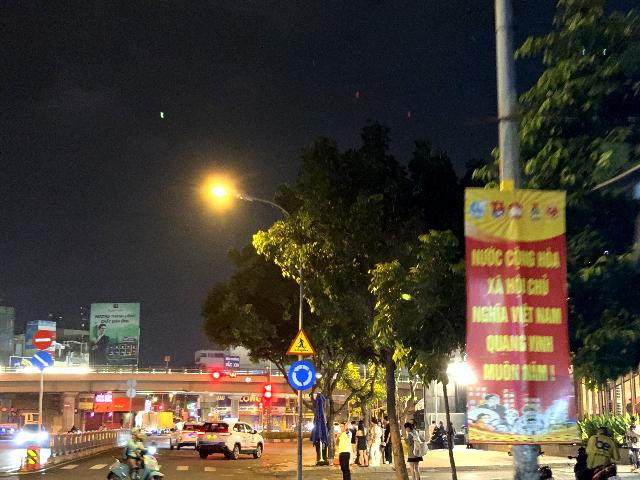cam-di-nguoc-chieu: (32, 329, 53, 351)
duong-nguoi-di-bo-cat-ngang: (286, 328, 316, 355)
huong-phai-di-vong-chuong-ngai-vat: (32, 352, 54, 371)
noi-giao-nhau-chay-theo-vong-xuyen: (288, 360, 316, 391)
